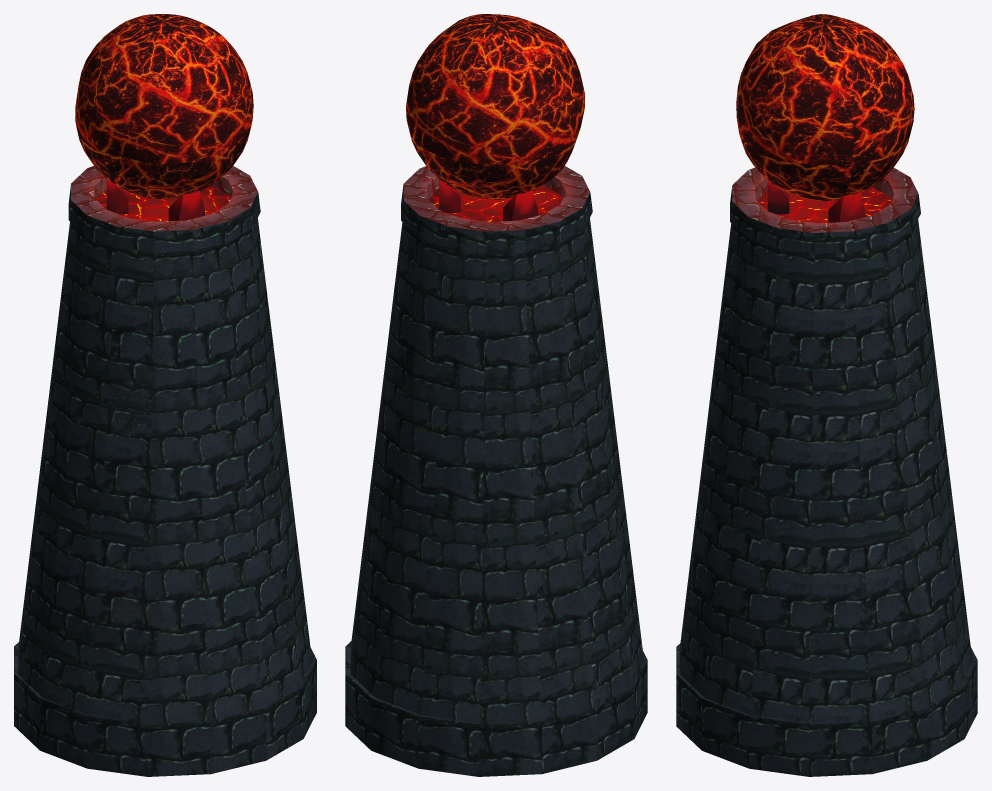
The model's file is ctower042.fbx.
3 renders of one model, left to right at view 1: azimuth 30°, elevation 25°; view 2: azimuth 150°, elevation 25°; view 3: azimuth 270°, elevation 25°, orthographic.
Visible parts, largest first — view 1: Цилиндр, Сфера.001; view 2: Цилиндр, Сфера.001; view 3: Цилиндр, Сфера.001.
Boxes of the visible parts, x1,y1,x2,y2 form: Цилиндр: (14, 166, 316, 776); Сфера.001: (75, 14, 253, 199); Цилиндр: (345, 166, 647, 776); Сфера.001: (406, 14, 584, 199); Цилиндр: (676, 167, 977, 776); Сфера.001: (736, 14, 914, 200).
Size of the model in its own units: 172 by 432 by 171.
Materials: 2 (2 with a texture image).
